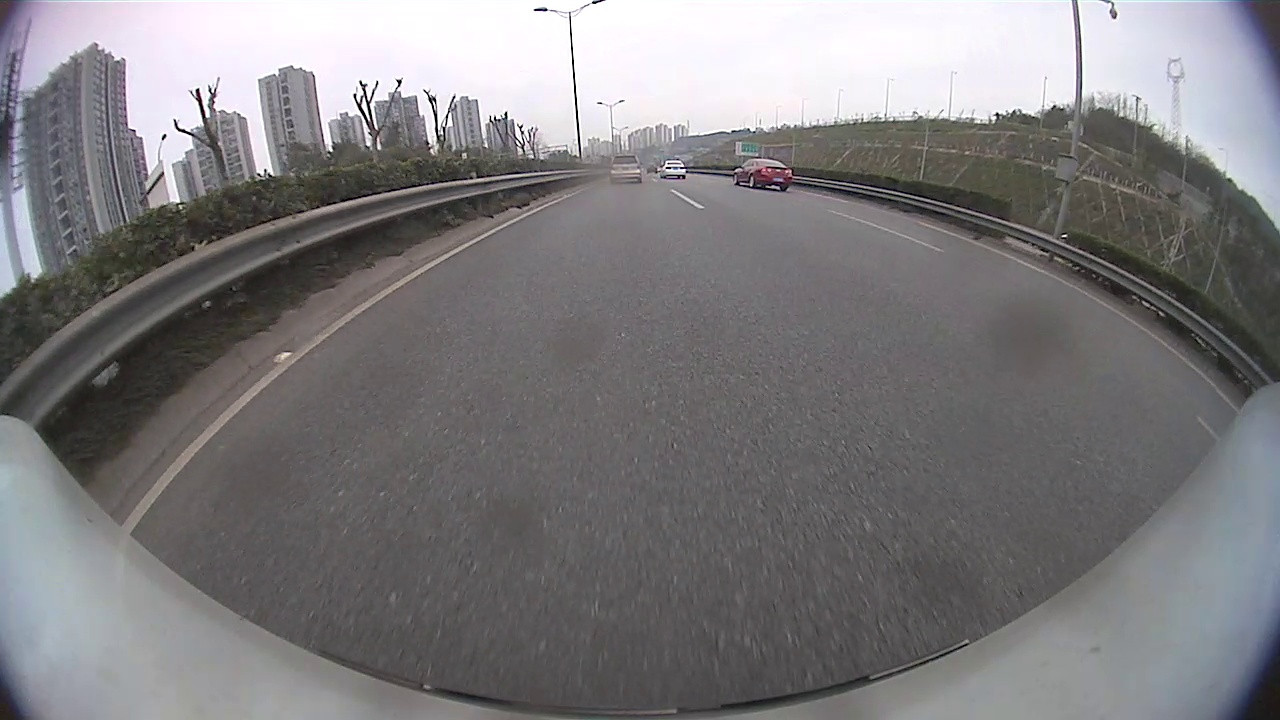car: (732, 157, 793, 191), (608, 152, 642, 184), (658, 158, 686, 179)
front: (732, 173, 738, 184)
rear: (748, 176, 758, 189)
